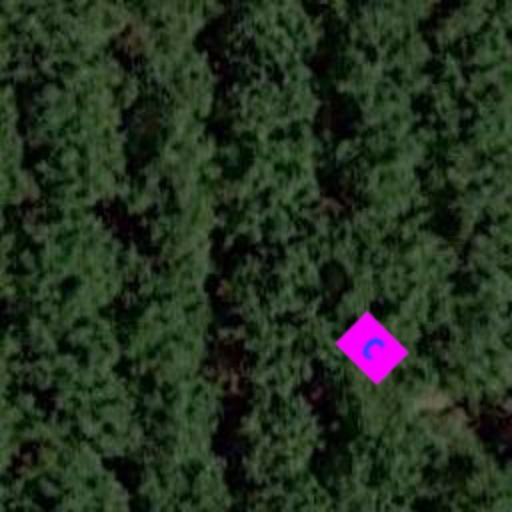rectangle: (330, 306, 414, 390)
